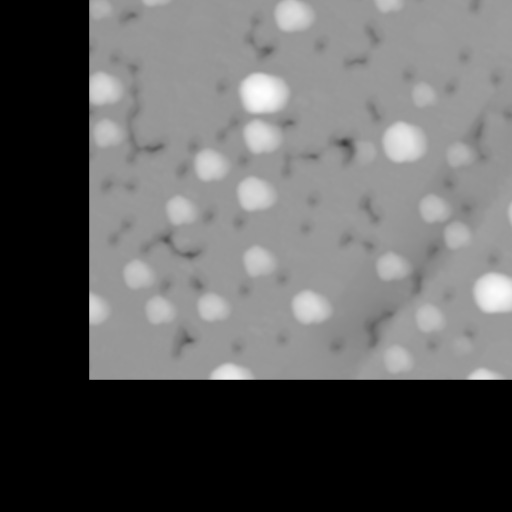Hole: (140, 225, 206, 259), (326, 125, 369, 168), (360, 298, 398, 346), (281, 145, 323, 181), (124, 134, 171, 161), (353, 190, 389, 223), (106, 209, 135, 248), (97, 169, 142, 193), (127, 58, 144, 121), (169, 326, 200, 357), (466, 104, 489, 141), (362, 18, 386, 47), (340, 48, 374, 68), (212, 116, 239, 140), (188, 263, 211, 291), (451, 36, 474, 63), (455, 193, 481, 213), (361, 92, 380, 119), (244, 15, 263, 42), (272, 323, 294, 346), (442, 76, 462, 101), (303, 184, 323, 209), (484, 247, 510, 266), (487, 59, 504, 88), (201, 202, 221, 226), (335, 223, 354, 248), (412, 271, 430, 296), (160, 267, 178, 292), (255, 43, 280, 60), (421, 237, 442, 257), (309, 32, 331, 51), (298, 216, 316, 238), (278, 115, 301, 132), (461, 316, 481, 335), (169, 157, 188, 177), (212, 73, 229, 95), (326, 334, 345, 353), (275, 267, 294, 286), (478, 146, 497, 164), (230, 335, 248, 354), (119, 8, 138, 26), (439, 171, 458, 188), (108, 49, 126, 66), (468, 0, 487, 16), (441, 280, 456, 300), (425, 334, 442, 351), (499, 101, 511, 125), (400, 62, 414, 80), (185, 132, 199, 149), (232, 213, 247, 228), (360, 233, 374, 249), (239, 282, 253, 298), (234, 155, 249, 169), (89, 36, 98, 58), (407, 0, 427, 2)
Particle: (235, 69, 290, 114), (380, 117, 430, 165), (287, 284, 338, 325), (466, 270, 511, 314), (232, 172, 278, 210), (267, 0, 320, 32), (238, 238, 279, 277), (241, 118, 282, 156), (372, 247, 413, 281), (191, 146, 232, 180), (377, 341, 416, 376), (414, 189, 456, 221), (161, 191, 199, 225), (89, 70, 127, 104), (192, 290, 232, 321), (441, 218, 476, 252), (143, 291, 176, 327), (412, 300, 448, 333), (118, 258, 155, 290), (89, 117, 130, 145), (204, 357, 256, 378), (89, 288, 114, 328), (445, 140, 479, 167), (409, 80, 438, 108), (461, 364, 508, 378), (367, 0, 407, 14), (450, 332, 471, 358), (89, 0, 115, 21), (499, 190, 511, 235), (136, 0, 177, 11)
